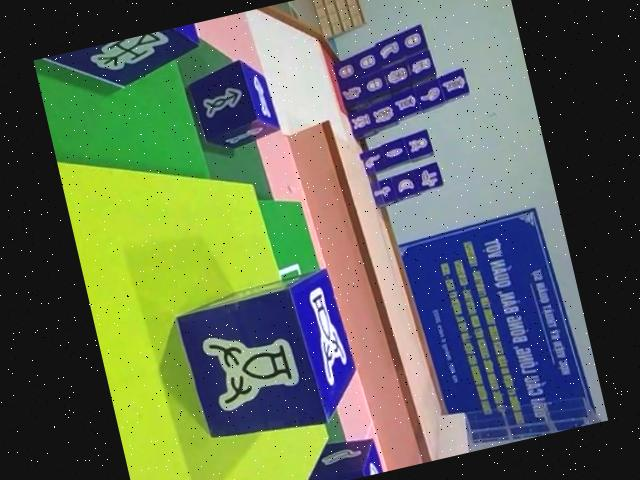R2 Real Blue: (170, 265, 367, 450), (32, 23, 202, 105), (181, 56, 281, 159), (293, 435, 380, 480)
